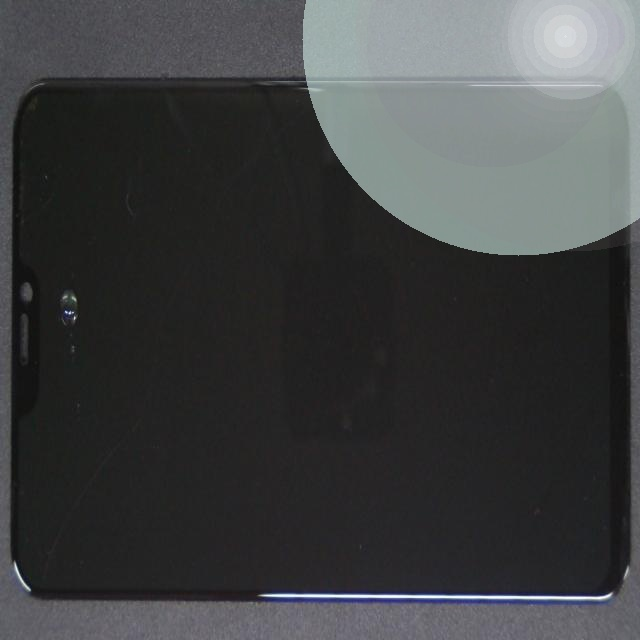oil: (28, 123, 87, 453)
